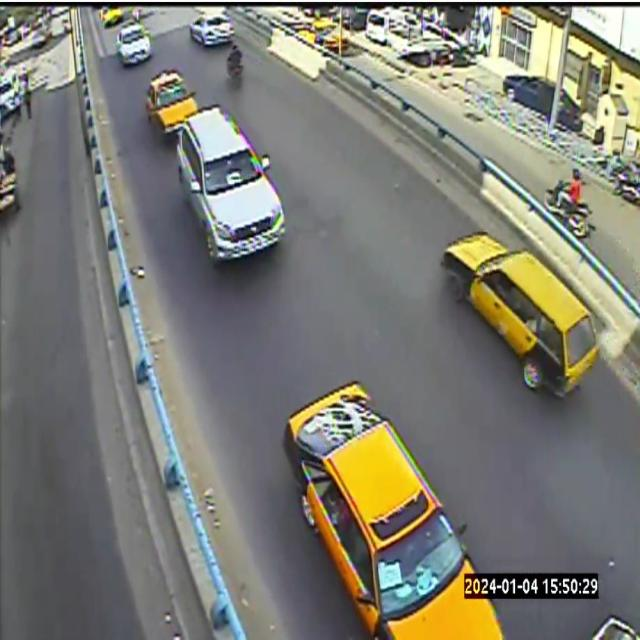car: (283, 383, 504, 639), (441, 232, 598, 396), (177, 105, 285, 260), (145, 68, 198, 135), (298, 17, 349, 53), (190, 13, 234, 46), (116, 24, 151, 65)
